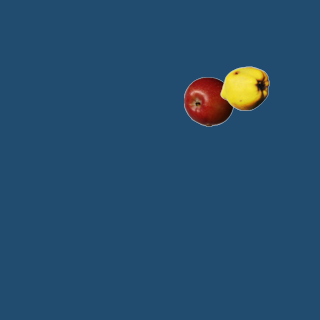Apple Braeburn: (183, 76, 233, 126)
Quince: (219, 63, 269, 113)
